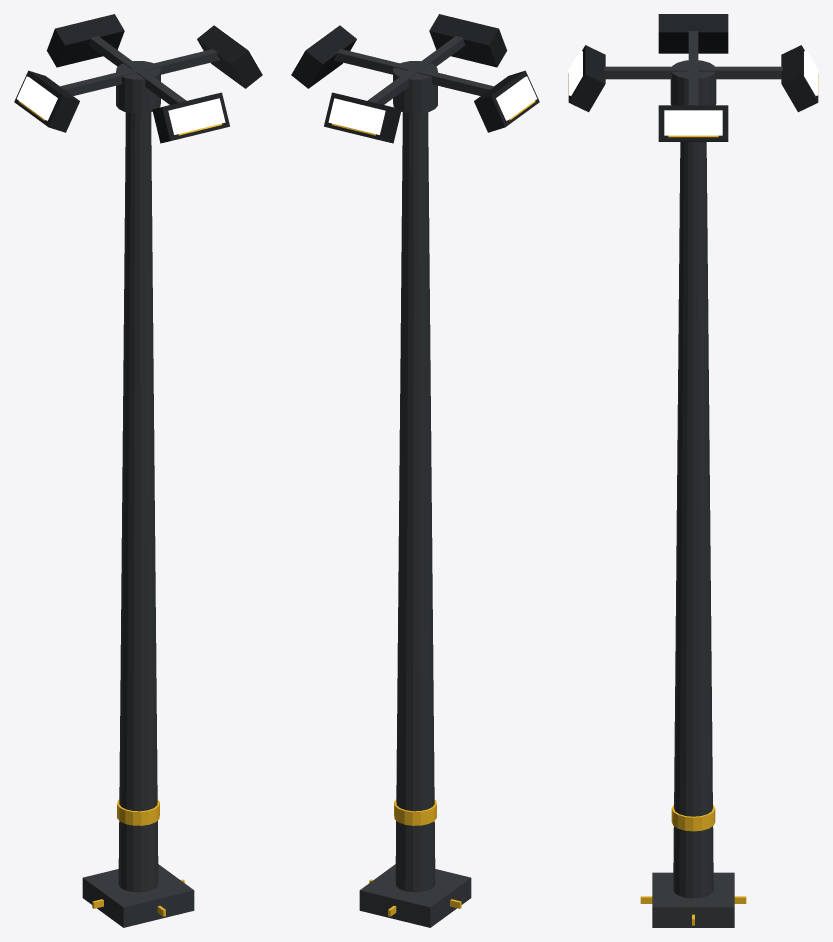
Rendered from lamp-post.glb.
3 renders of one model, left to right at view 1: azimuth 30°, elevation 25°; view 2: azimuth 150°, elevation 25°; view 3: azimuth 270°, elevation 25°, orthographic.
Parts seen in each view (by area): view 1: Floodlight_MainPole, Floodlight_Base, Floodlight_East_Housing, Floodlight_North_Housing, Floodlight_TopHub, Floodlight_South_Housing, Floodlight_West_Lens, Floodlight_West_Housing, Floodlight_South_Lens, Floodlight_Arm_North, Floodlight_Arm_South, Floodlight_YellowBand (+2 smaller); view 2: Floodlight_MainPole, Floodlight_Base, Floodlight_West_Housing, Floodlight_North_Housing, Floodlight_TopHub, Floodlight_South_Housing, Floodlight_East_Lens, Floodlight_East_Housing, Floodlight_South_Lens, Floodlight_Arm_North, Floodlight_Arm_South, Floodlight_YellowBand (+2 smaller); view 3: Floodlight_MainPole, Floodlight_Base, Floodlight_South_Housing, Floodlight_North_Lens, Floodlight_East_Housing, Floodlight_West_Housing, Floodlight_TopHub, Floodlight_North_Housing, Floodlight_Arm_East, Floodlight_Arm_West, Floodlight_YellowBand.
Boxes of the visible parts, left/top/right/bottom form: Floodlight_MainPole: left=118, top=112, right=158, bottom=892; Floodlight_Base: left=82, top=864, right=194, bottom=927; Floodlight_East_Housing: left=46, top=14, right=124, bottom=67; Floodlight_North_Housing: left=197, top=25, right=262, bottom=88; Floodlight_TopHub: left=116, top=61, right=160, bottom=113; Floodlight_South_Housing: left=14, top=70, right=79, bottom=132; Floodlight_West_Lens: left=168, top=98, right=225, bottom=134; Floodlight_West_Housing: left=152, top=92, right=229, bottom=143; Floodlight_South_Lens: left=16, top=76, right=57, bottom=120; Floodlight_Arm_North: left=137, top=49, right=219, bottom=74; Floodlight_Arm_South: left=59, top=68, right=140, bottom=95; Floodlight_YellowBand: left=117, top=799, right=159, bottom=825; Floodlight_MainPole: left=395, top=112, right=435, bottom=892; Floodlight_Base: left=359, top=864, right=471, bottom=927; Floodlight_West_Housing: left=429, top=14, right=507, bottom=67; Floodlight_North_Housing: left=291, top=25, right=356, bottom=88; Floodlight_TopHub: left=393, top=61, right=437, bottom=113; Floodlight_South_Housing: left=474, top=70, right=539, bottom=132; Floodlight_East_Lens: left=328, top=98, right=385, bottom=134; Floodlight_East_Housing: left=324, top=92, right=401, bottom=143; Floodlight_South_Lens: left=496, top=76, right=537, bottom=120; Floodlight_Arm_North: left=334, top=49, right=416, bottom=74; Floodlight_Arm_South: left=413, top=68, right=494, bottom=95; Floodlight_YellowBand: left=394, top=799, right=436, bottom=825; Floodlight_MainPole: left=673, top=142, right=713, bottom=898; Floodlight_Base: left=652, top=872, right=734, bottom=927; Floodlight_South_Housing: left=658, top=14, right=728, bottom=53; Floodlight_North_Lens: left=664, top=110, right=722, bottom=135; Floodlight_East_Housing: left=781, top=45, right=818, bottom=112; Floodlight_West_Housing: left=568, top=45, right=605, bottom=112; Floodlight_TopHub: left=670, top=60, right=716, bottom=105; Floodlight_North_Housing: left=658, top=105, right=728, bottom=141; Floodlight_Arm_East: left=693, top=66, right=782, bottom=79; Floodlight_Arm_West: left=604, top=66, right=692, bottom=79; Floodlight_YellowBand: left=671, top=805, right=715, bottom=831.
Size of the model in its own units: 1.98 by 7.42 by 1.98.
